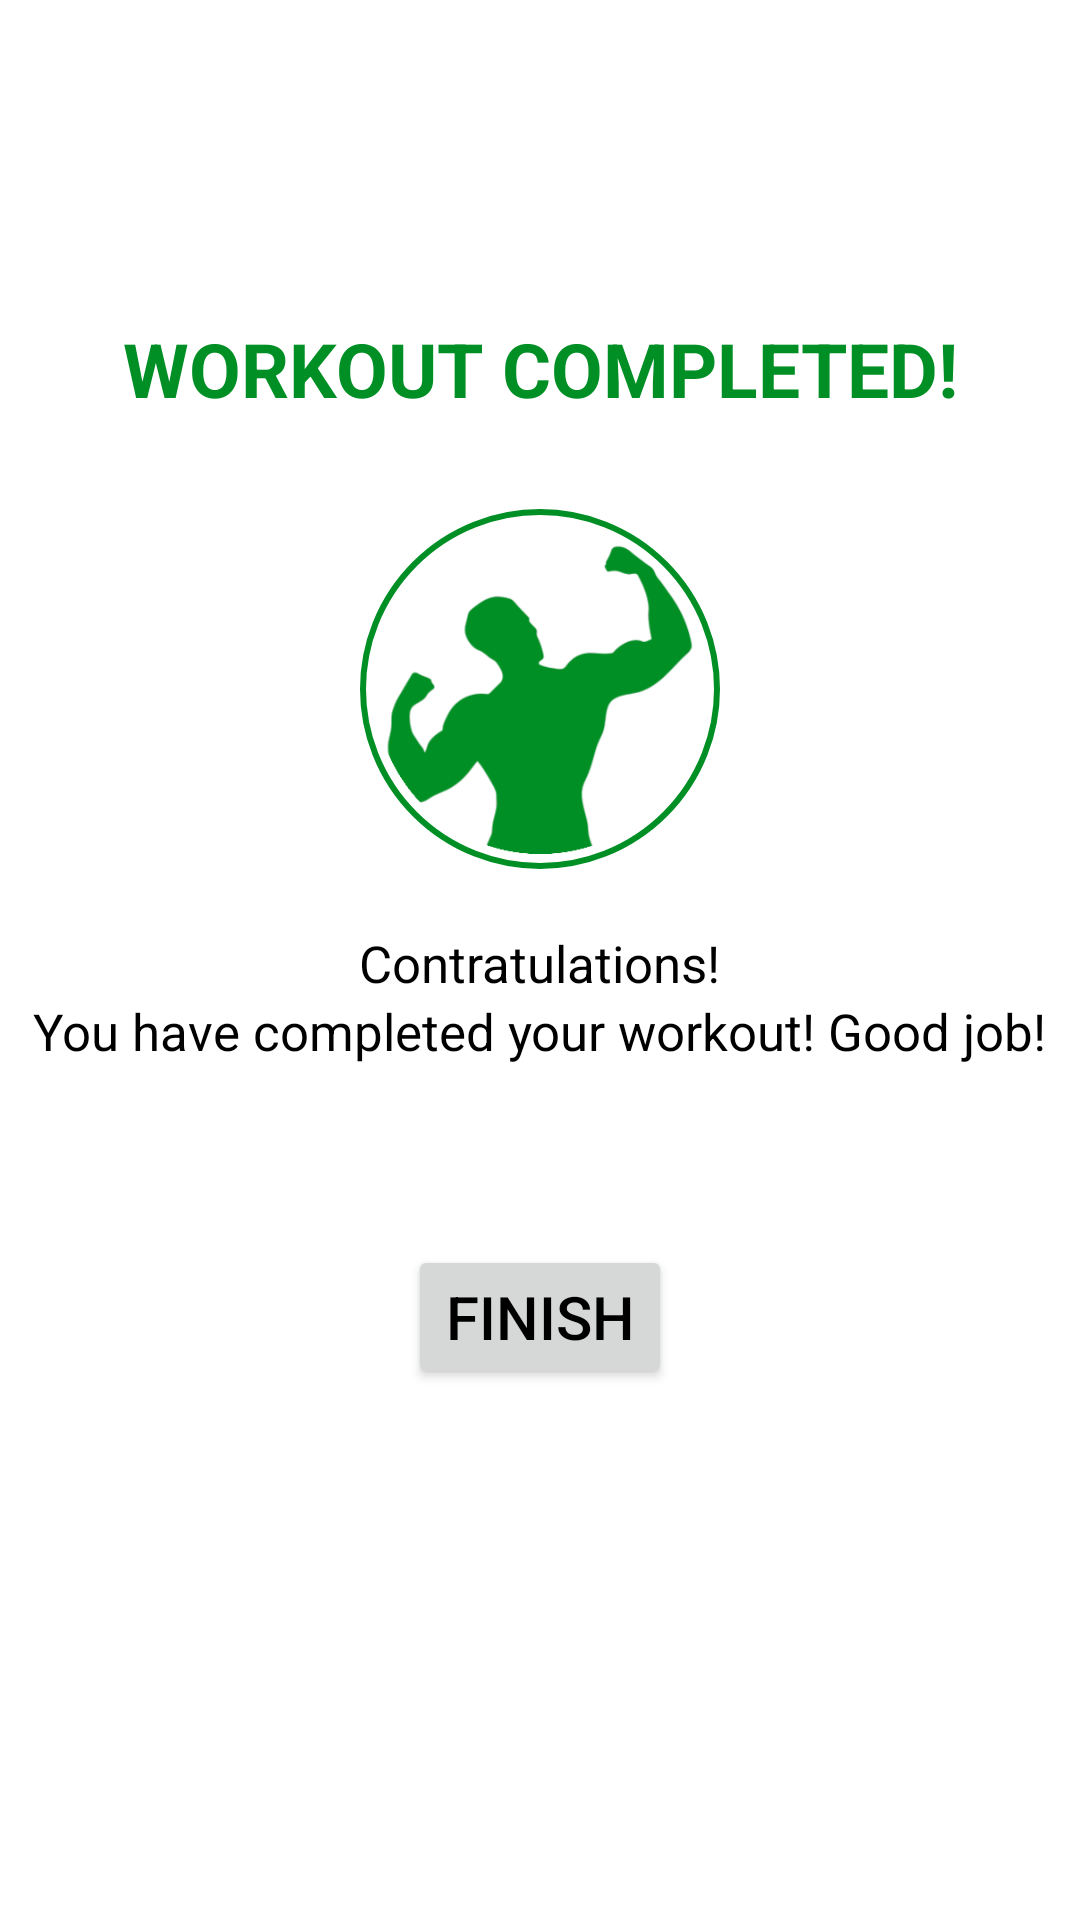

Point at icon controls on the screen. Image size 1080w x 1920h, points as (x=x, y=y).
fitness: (x=540, y=700)
